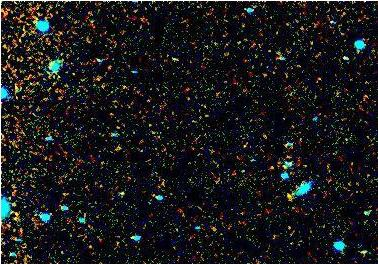star: (274, 180, 304, 210)
